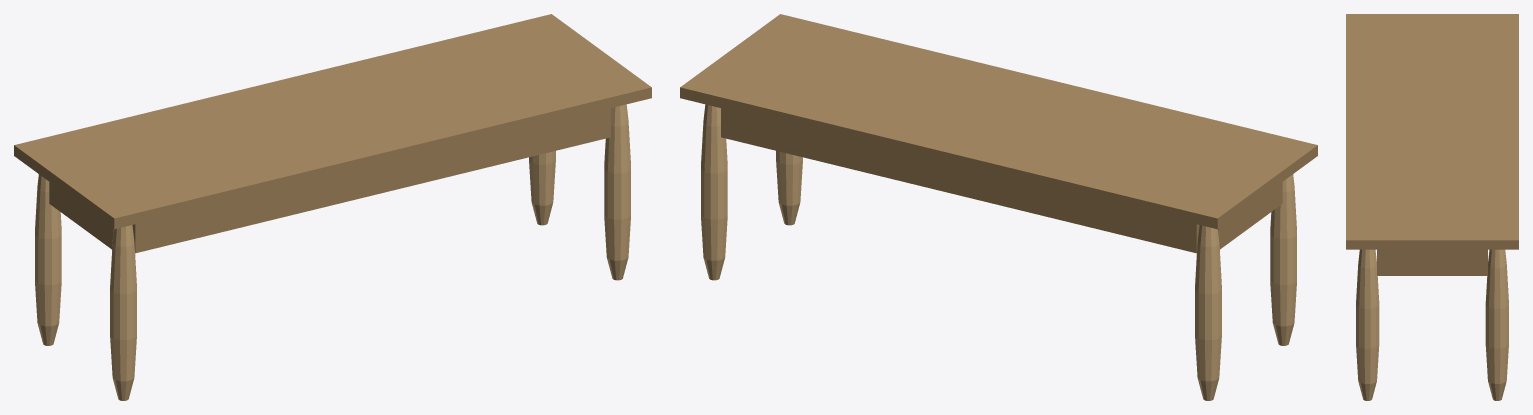
File: SAB-BEB-std.glb
3 views of the same model, side by side, from view 1: azimuth 30°, elevation 25°; view 2: azimuth 150°, elevation 25°; view 3: azimuth 270°, elevation 25° (orthographic). The views are drawn at different scales.
Visible parts, largest first — view 1: top:pbr, apron-f:pbr, leg-fl:pbr, leg-fr:pbr, leg-bl:pbr, leg-br:pbr, apron-l:pbr; view 2: top:pbr, apron-b:pbr, leg-bl:pbr, leg-br:pbr, leg-fl:pbr, leg-fr:pbr, apron-l:pbr; view 3: top:pbr, leg-fr:pbr, leg-br:pbr, apron-r:pbr.
Part boxes in pixels (x1=…): top:pbr: x1=14, y1=14, x2=651, y2=229; apron-f:pbr: x1=132, y1=108, x2=610, y2=253; leg-fl:pbr: x1=110, y1=225, x2=136, y2=400; leg-fr:pbr: x1=604, y1=104, x2=630, y2=280; leg-bl:pbr: x1=35, y1=174, x2=61, y2=345; leg-br:pbr: x1=529, y1=151, x2=555, y2=225; apron-l:pbr: x1=49, y1=182, x2=113, y2=249; top:pbr: x1=680, y1=14, x2=1317, y2=229; apron-b:pbr: x1=721, y1=108, x2=1199, y2=253; leg-bl:pbr: x1=1195, y1=225, x2=1221, y2=400; leg-br:pbr: x1=701, y1=104, x2=727, y2=280; leg-fl:pbr: x1=1270, y1=174, x2=1296, y2=345; leg-fr:pbr: x1=776, y1=151, x2=802, y2=225; apron-l:pbr: x1=1218, y1=182, x2=1282, y2=249; top:pbr: x1=1346, y1=14, x2=1518, y2=249; leg-fr:pbr: x1=1356, y1=249, x2=1379, y2=400; leg-br:pbr: x1=1485, y1=249, x2=1508, y2=400; apron-r:pbr: x1=1377, y1=249, x2=1487, y2=275.
Bounding box in the file's own units: 1.3 × 0.45 × 0.42.
